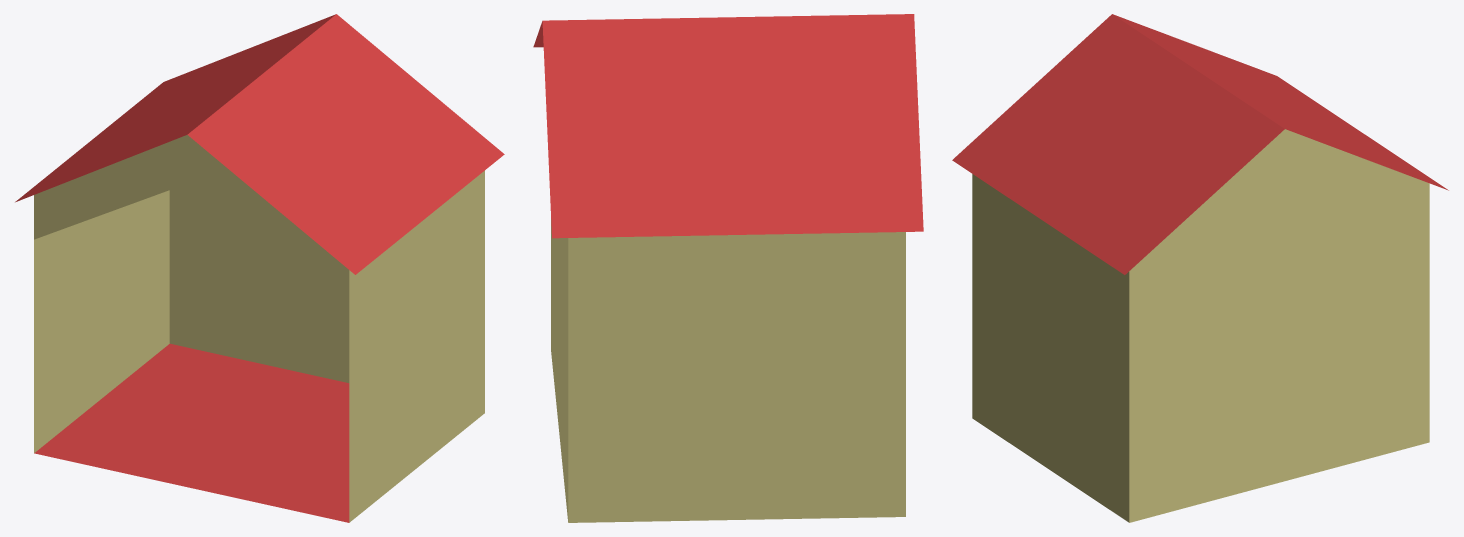
The picture shows the model from 3 angles, left to right: view 1: azimuth 30°, elevation 25°; view 2: azimuth 150°, elevation 25°; view 3: azimuth 270°, elevation 25°; orthographic projection. The views are drawn at different scales.
Bounding box in the file's own units: 16.26 × 16.92 × 13.48.
